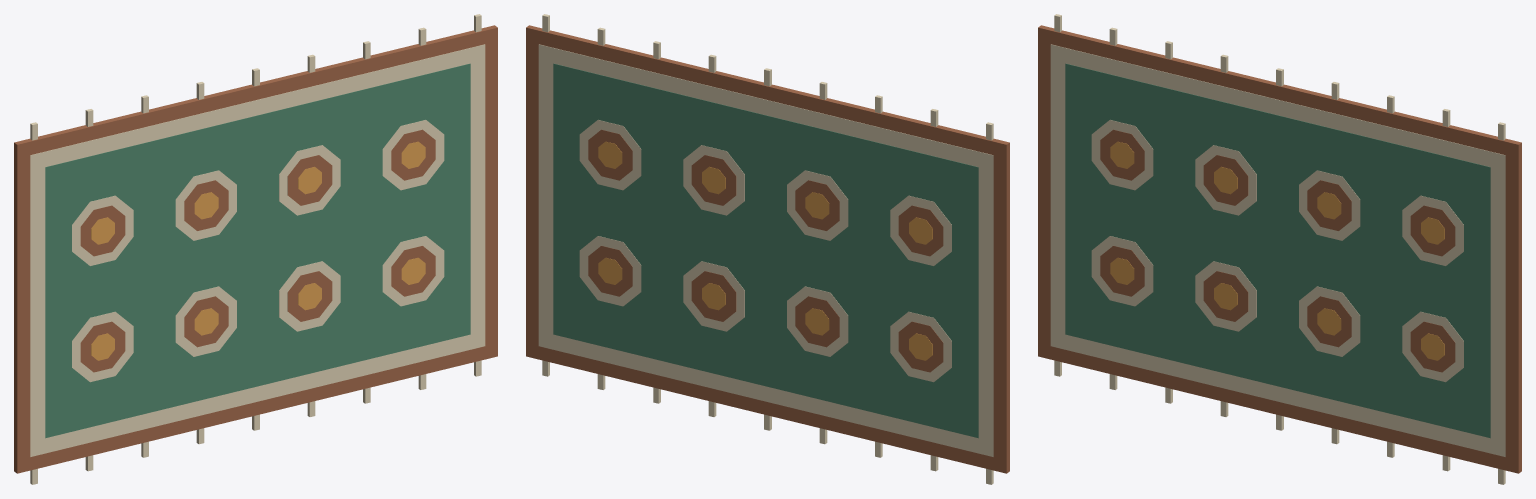
The model's file is wall_carpet_green.glb.
The picture shows the model from 3 angles, left to right: view 1: azimuth 30°, elevation 25°; view 2: azimuth 150°, elevation 25°; view 3: azimuth 330°, elevation 25°; orthographic projection.
Parts seen in each view (by area): view 1: wall_carpet_green; view 2: wall_carpet_green; view 3: wall_carpet_green.
Part boxes in pixels (x1,y1,x2,y2): wall_carpet_green: (14, 14, 497, 484); wall_carpet_green: (526, 14, 1009, 484); wall_carpet_green: (1038, 14, 1521, 484).
Size of the model in its own units: 2.6 by 1.86 by 0.0452.
